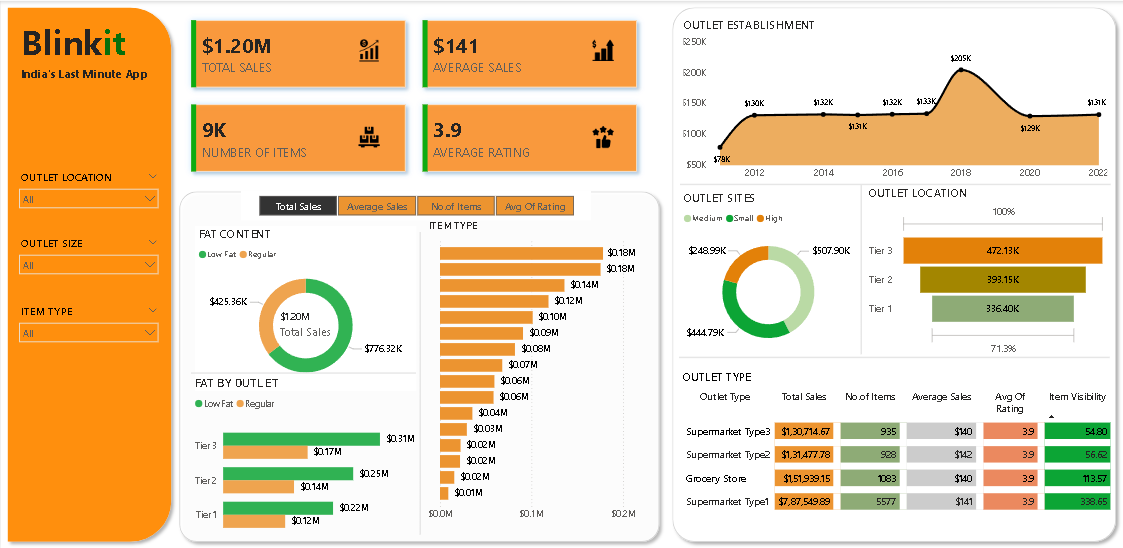

The dashboard page shown, as its layout file describes it:
{"tool":"powerbi","page":{"name":"Page 1","canvas":[1570,770],"ordinal":0},"visuals":[{"type":"shape","box":[0,0,247.5,766.1],"z":0},{"type":"textbox","box":[22,18.6,232.2,132.2],"z":1000},{"type":"textbox","box":[22,84.7,244.1,33.9],"z":2000},{"type":"cardVisual","fields":{"Data":["BlinkIT Grocery Data.Total Sales","BlinkIT Grocery Data.Average Sales","BlinkIT Grocery Data.No.of Items","BlinkIT Grocery Data.Avg Of Rating"]},"box":[249.2,10.2,659.3,247.5],"z":3000},{"type":"image","box":[498.3,52.5,33.9,32.2],"z":4000},{"type":"image","box":[825.4,174.6,33.9,30.5],"z":5000},{"type":"image","box":[498.3,174.6,33.9,30.5],"z":6000},{"type":"image","box":[825.4,52.5,33.9,32.2],"z":7000},{"type":"shape","box":[240.7,257.6,689.8,508.5],"z":8000},{"type":"donutChart","title":"FAT CONTENT","fields":{"Y":["BlinkIT Grocery Data.Total Sales"],"Category":["BlinkIT Grocery Data.Item Fat Content"]},"box":[271.2,315.3,310.2,230.5],"z":9000},{"type":"slicer","fields":{"Values":["Matrics.Matrics"]},"box":[335.6,266.1,489.8,40.7],"z":10000},{"type":"cardVisual","fields":{"Data":["BlinkIT Grocery Data.Total Sales"]},"box":[370,418.6,123.7,67.8],"z":11000},{"type":"clusteredBarChart","title":"FAT BY OUTLET","fields":{"Y":["BlinkIT Grocery Data.Total Sales"],"Category":["BlinkIT Grocery Data.Outlet Location Type"],"Series":["BlinkIT Grocery Data.Item Fat Content"]},"box":[266.1,525.4,320.3,239],"z":12000},{"type":"shape","box":[266.1,511.9,315.3,16.9],"z":13000},{"type":"shape","box":[581.4,323.7,11.9,423.7],"z":14000},{"type":"barChart","title":"ITEM TYPE","fields":{"Y":["BlinkIT Grocery Data.Total Sales"],"Category":["BlinkIT Grocery Data.Item Type"]},"box":[593.2,306.8,315.3,428.8],"z":15000},{"type":"shape","box":[930.5,0,639,766.1],"z":16000},{"type":"lineChart","title":"OUTLET ESTABLISHMENT","fields":{"Y":["BlinkIT Grocery Data.Total Sales"],"Category":["BlinkIT Grocery Data.Outlet Establishment Year"]},"box":[950.8,22,603.4,235.6],"z":17000},{"type":"shape","box":[950.8,249.2,603.4,15.3],"z":18000},{"type":"donutChart","title":"OUTLET SITES","fields":{"Y":["BlinkIT Grocery Data.Total Sales"],"Category":["BlinkIT Grocery Data.Outlet Size"]},"box":[950.8,264.4,247.5,237.3],"z":19000},{"type":"shape","box":[1198.3,257.6,11.9,237.3],"z":20000},{"type":"funnel","title":"OUTLET LOCATION","fields":{"Y":["Sum(BlinkIT Grocery Data.Sales)"],"Category":["BlinkIT Grocery Data.Outlet Location Type"]},"box":[1210.2,257.6,342.4,244.1],"z":21000},{"type":"pivotTable","title":"OUTLET TYPE","fields":{"Rows":["BlinkIT Grocery Data.Outlet Type"],"Values":["BlinkIT Grocery Data.Total Sales","BlinkIT Grocery Data.No.of Items","BlinkIT Grocery Data.Average Sales","BlinkIT Grocery Data.Avg Of Rating","Sum(BlinkIT Grocery Data.Item Visibility)"]},"box":[949.2,515.3,620.3,228.8],"z":22000},{"type":"shape","box":[949.2,494.9,603.4,6.8],"z":23000},{"type":"slicer","fields":{"Values":["BlinkIT Grocery Data.Outlet Location Type"]},"box":[15.3,230.5,215.3,67.8],"z":24000},{"type":"slicer","fields":{"Values":["BlinkIT Grocery Data.Outlet Size"]},"box":[15.3,323.7,215.3,66.1],"z":25000},{"type":"slicer","fields":{"Values":["BlinkIT Grocery Data.Item Type"]},"box":[15.3,418.6,215.3,67.8],"z":26000}]}

Visuals, with their boxes in screenshot pixels (x1, y1, x2, y2), scaled from the page's 1570x770 canvas onto the 1123x548 screenshot:
shape: detection(0, 0, 177, 545)
textbox: detection(16, 13, 182, 107)
textbox: detection(16, 60, 190, 84)
cardVisual - BlinkIT Grocery Data.Total Sales x BlinkIT Grocery Data.Average Sales: detection(178, 7, 650, 183)
image: detection(356, 37, 381, 60)
image: detection(590, 124, 615, 146)
image: detection(356, 124, 381, 146)
image: detection(590, 37, 615, 60)
shape: detection(172, 183, 666, 545)
"FAT CONTENT" donutChart: detection(194, 224, 416, 388)
slicer - Matrics.Matrics: detection(240, 189, 590, 218)
cardVisual - BlinkIT Grocery Data.Total Sales: detection(265, 298, 353, 346)
"FAT BY OUTLET" clusteredBarChart: detection(190, 374, 419, 544)
shape: detection(190, 364, 416, 376)
shape: detection(416, 230, 424, 532)
"ITEM TYPE" barChart: detection(424, 218, 650, 524)
shape: detection(666, 0, 1122, 545)
"OUTLET ESTABLISHMENT" lineChart: detection(680, 16, 1112, 183)
shape: detection(680, 177, 1112, 188)
"OUTLET SITES" donutChart: detection(680, 188, 857, 357)
shape: detection(857, 183, 866, 352)
"OUTLET LOCATION" funnel: detection(866, 183, 1111, 357)
"OUTLET TYPE" pivotTable: detection(679, 367, 1122, 530)
shape: detection(679, 352, 1111, 357)
slicer - BlinkIT Grocery Data.Outlet Location Type: detection(11, 164, 165, 212)
slicer - BlinkIT Grocery Data.Outlet Size: detection(11, 230, 165, 277)
slicer - BlinkIT Grocery Data.Item Type: detection(11, 298, 165, 346)
